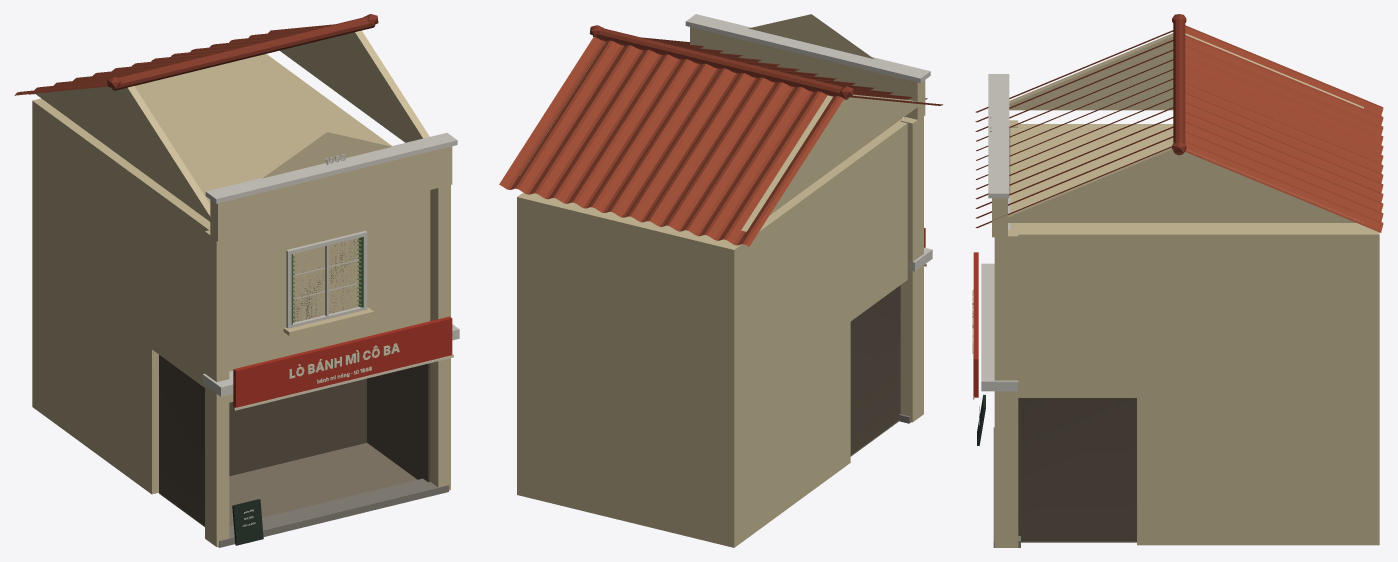
Rendered from lo_banh.glb.
3 views of the same model, side by side, from view 1: azimuth 30°, elevation 25°; view 2: azimuth 150°, elevation 25°; view 3: azimuth 270°, elevation 25° (orthographic). The views are drawn at different scales.
Visible parts, largest first — view 1: lo_banh; view 2: lo_banh; view 3: lo_banh.
Part boxes in pixels (x1,y1,x2,y2): lo_banh: (14,14,459,547); lo_banh: (499,14,942,547); lo_banh: (972,14,1383,547).
Size of the model in its own units: 5.99 by 8.65 by 7.79.
